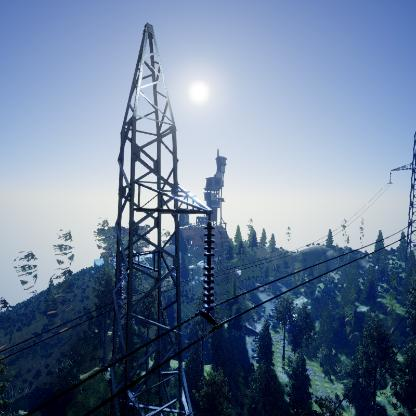insulator: (201, 222, 217, 312)
